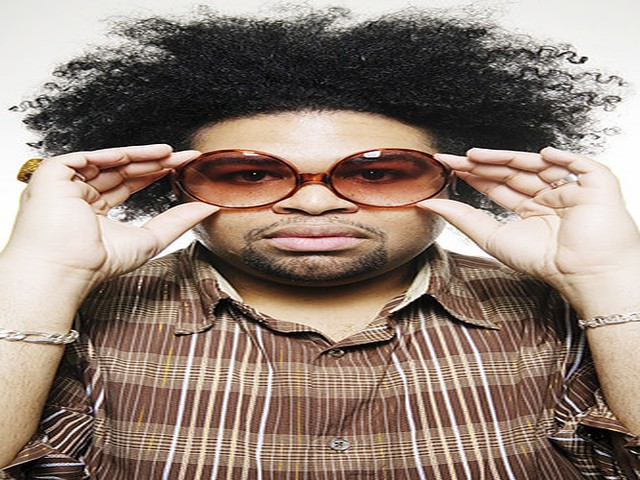Person: (3, 8, 639, 478)
